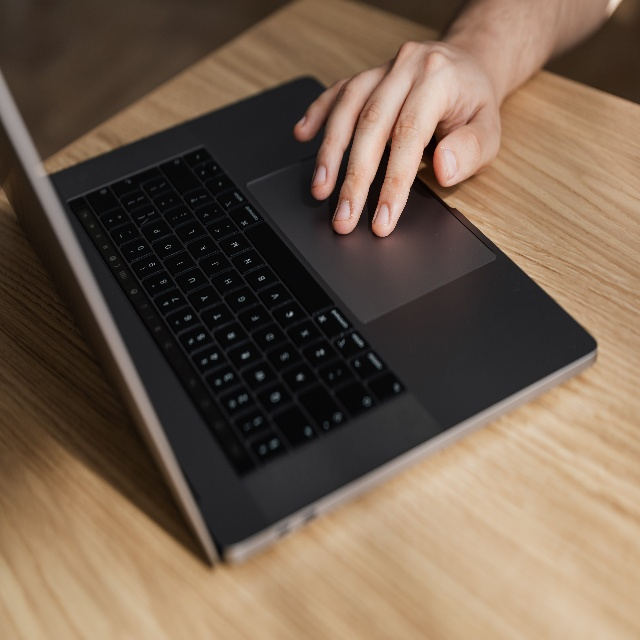Sin_guantes: (292, 38, 501, 239)
